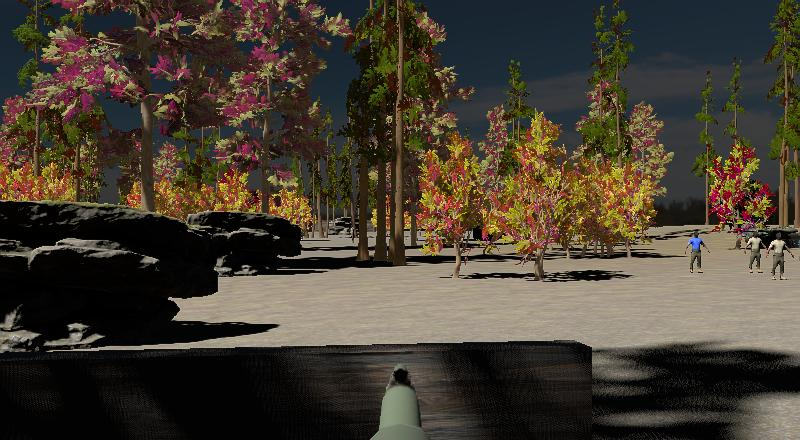Human: (766, 231, 794, 281), (685, 230, 710, 275), (744, 231, 768, 274)
